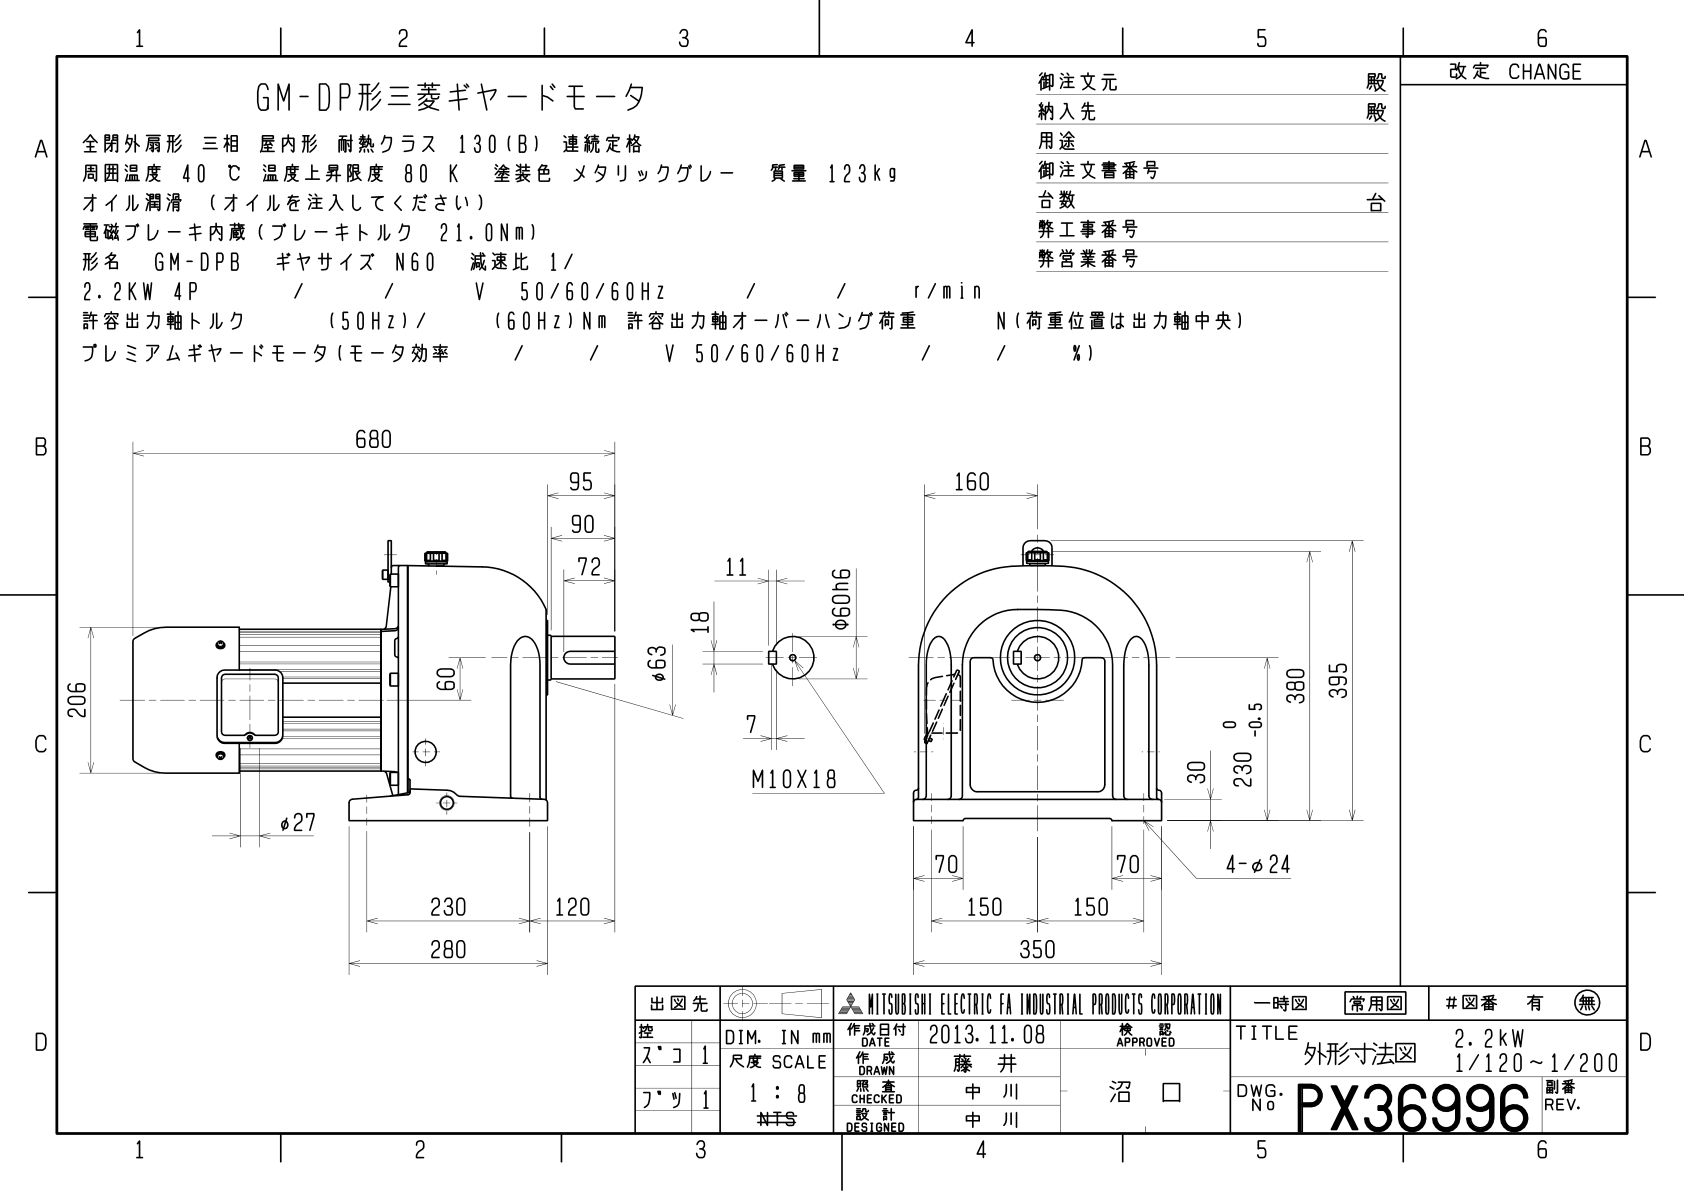GM_DP_屋内_三相_脚: (63, 409, 1379, 973)
